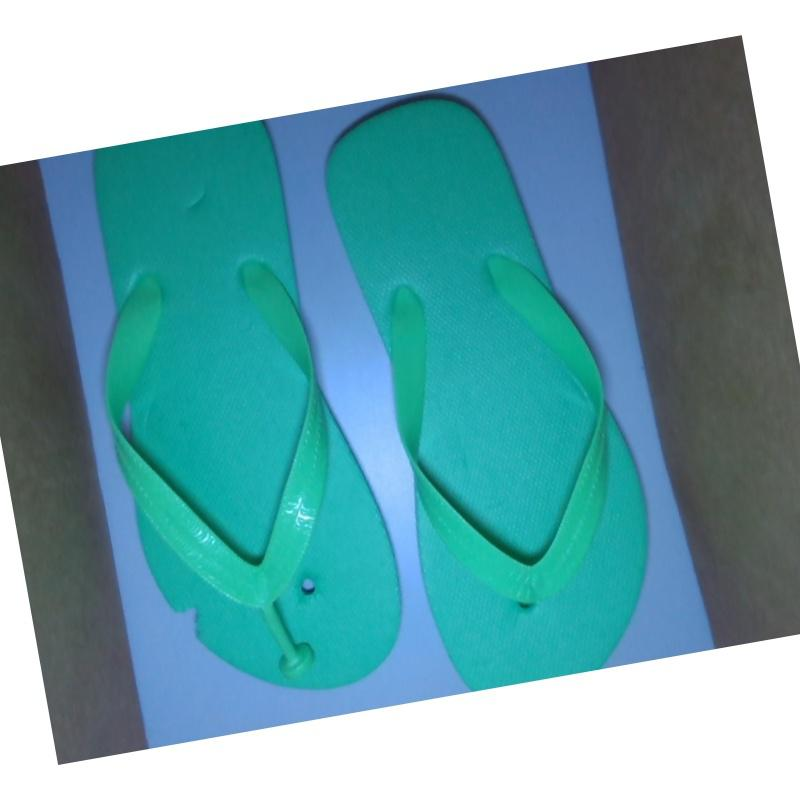chipped: (164, 596, 209, 649)
detached: (264, 621, 328, 684)
